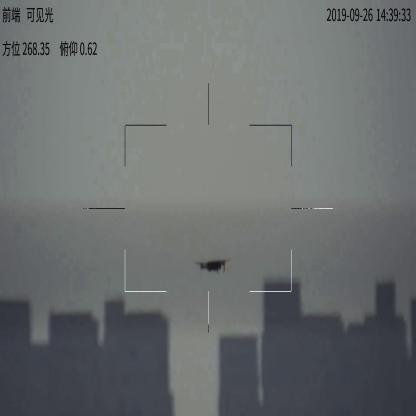uav: (194, 257, 231, 276)
